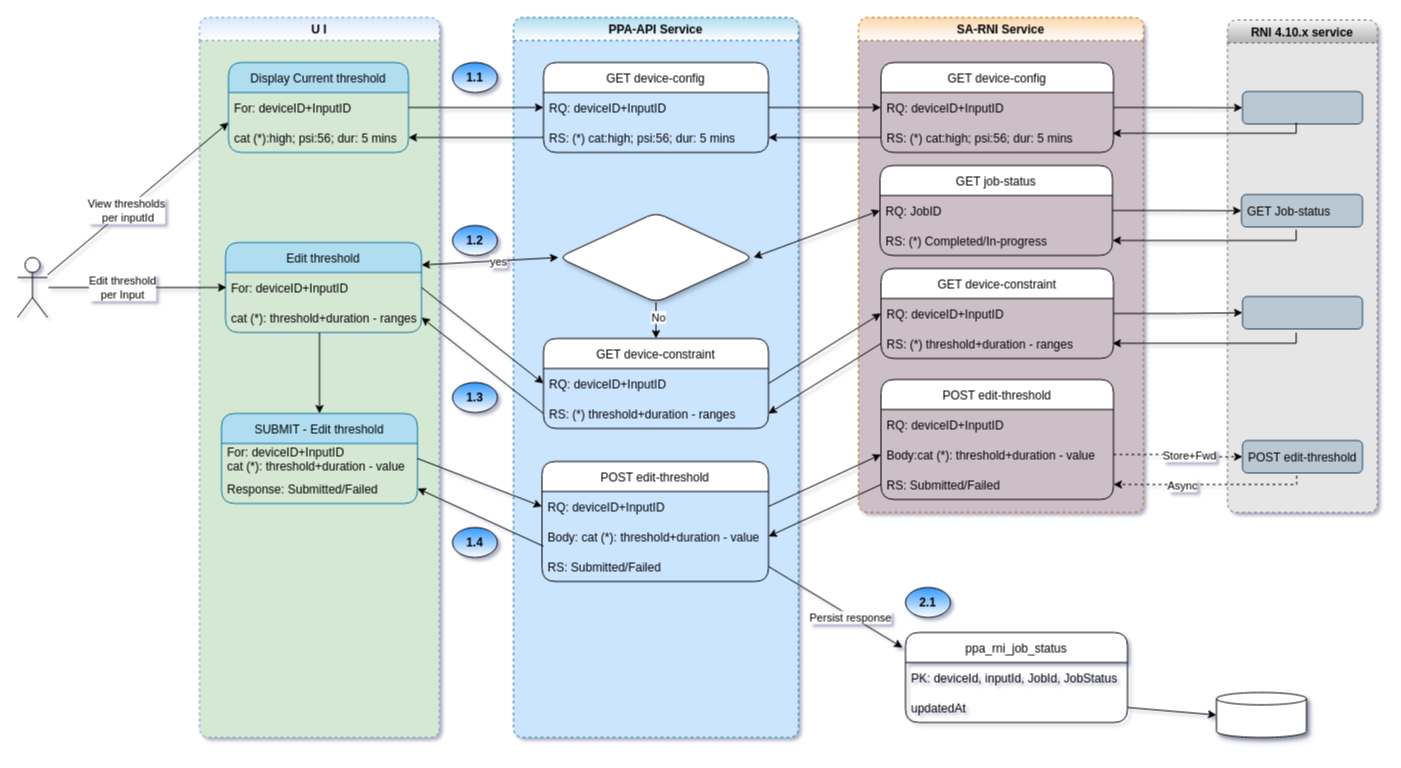
This 1401x768 diagram has some shape labels left out. Here are the shapes that lost their labels. From the top down, the centre of each, then its label:
At (1302,107): "GET current-config".
At (657,259): "Check Job in Progress".
At (32,287): "PPA User".
At (1302,312): "GET event-ranges".
At (1262,716): "PPA App DB".
